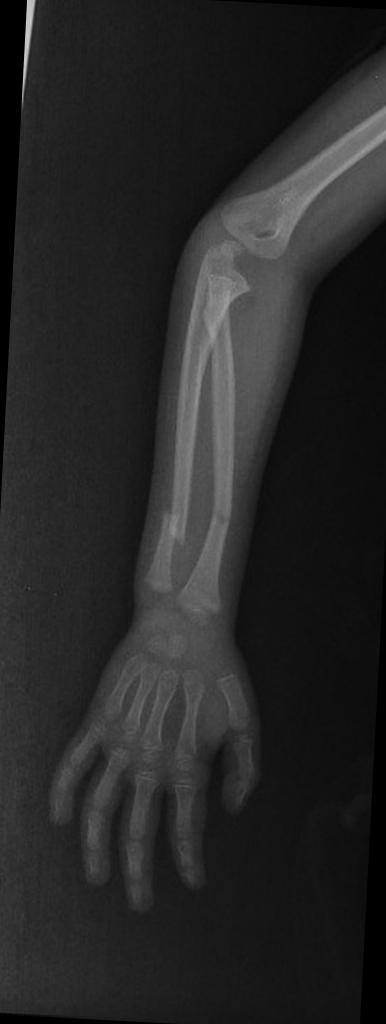line: (205, 511, 231, 527)
messed_up_angle: (156, 506, 187, 548)
